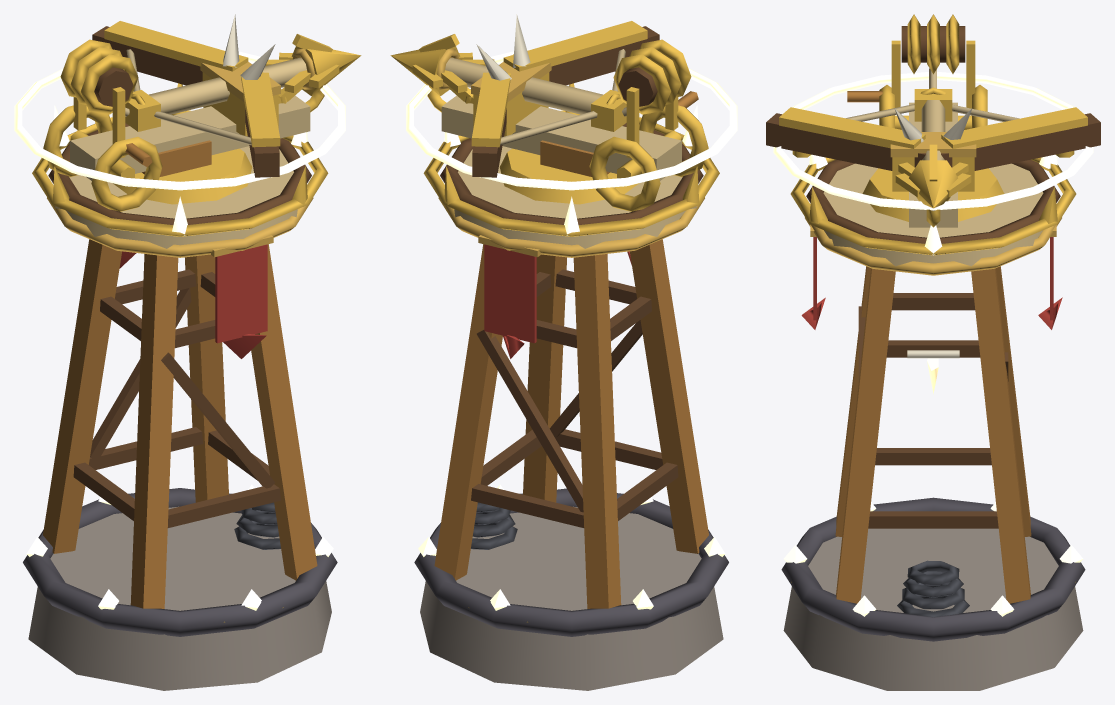
The model's file is tower_ballista_dragonSlayer_ultimate.glb.
3 views of the same model, side by side, from view 1: azimuth 30°, elevation 25°; view 2: azimuth 150°, elevation 25°; view 3: azimuth 270°, elevation 25° (orthographic). The views are drawn at different scales.
Visible parts, largest first — view 1: base, leg_wn, leg_ws, base_rim, leg_en, leg_es, deck, stock, banner_n, ult_halo, ult_crown_band, deck_trim (+32 smaller); view 2: base, leg_ws, leg_wn, base_rim, leg_es, leg_en, deck, stock, banner_s, ult_halo, ult_crown_band, brace_b (+31 smaller); view 3: base, base_rim, leg_en, leg_es, deck, ult_halo, ult_crown_band, deck_rim, bow_arm_l, bow_arm_r, deck_trim, bow_plate_r (+26 smaller).
Part boxes in pixels (x1,y1,x2,y2): base: (28,506,331,690); leg_wn: (130,254,178,608); leg_ws: (43,239,122,553); base_rim: (23,488,337,636); leg_en: (251,244,317,580); leg_es: (184,254,228,502); deck: (55,146,297,248); stock: (70,89,310,180); banner_n: (215,244,267,343); ult_halo: (14,49,345,190); ult_crown_band: (32,110,328,236); deck_trim: (47,197,313,257); base: (420,506,723,690); leg_ws: (573,254,621,608); leg_wn: (629,239,708,553); base_rim: (414,488,728,636); leg_es: (434,244,502,580); leg_en: (523,254,567,502); deck: (454,146,696,248); stock: (441,89,681,180); banner_s: (484,244,536,343); ult_halo: (406,49,737,190); ult_crown_band: (423,110,719,236); brace_b: (477,330,583,512); base: (783,528,1083,690); base_rim: (781,497,1085,641); leg_en: (836,268,895,603); leg_es: (971,268,1030,603); deck: (823,163,1043,266); ult_halo: (773,72,1093,210); ult_crown_band: (790,157,1076,255); deck_rim: (806,159,1060,243); bow_arm_l: (766,113,925,170); bow_arm_r: (941,113,1100,170); deck_trim: (805,217,1061,275); bow_plate_r: (941,107,1087,148).
Bounding box in the file's own units: 0.487 × 0.851 × 0.4469.
